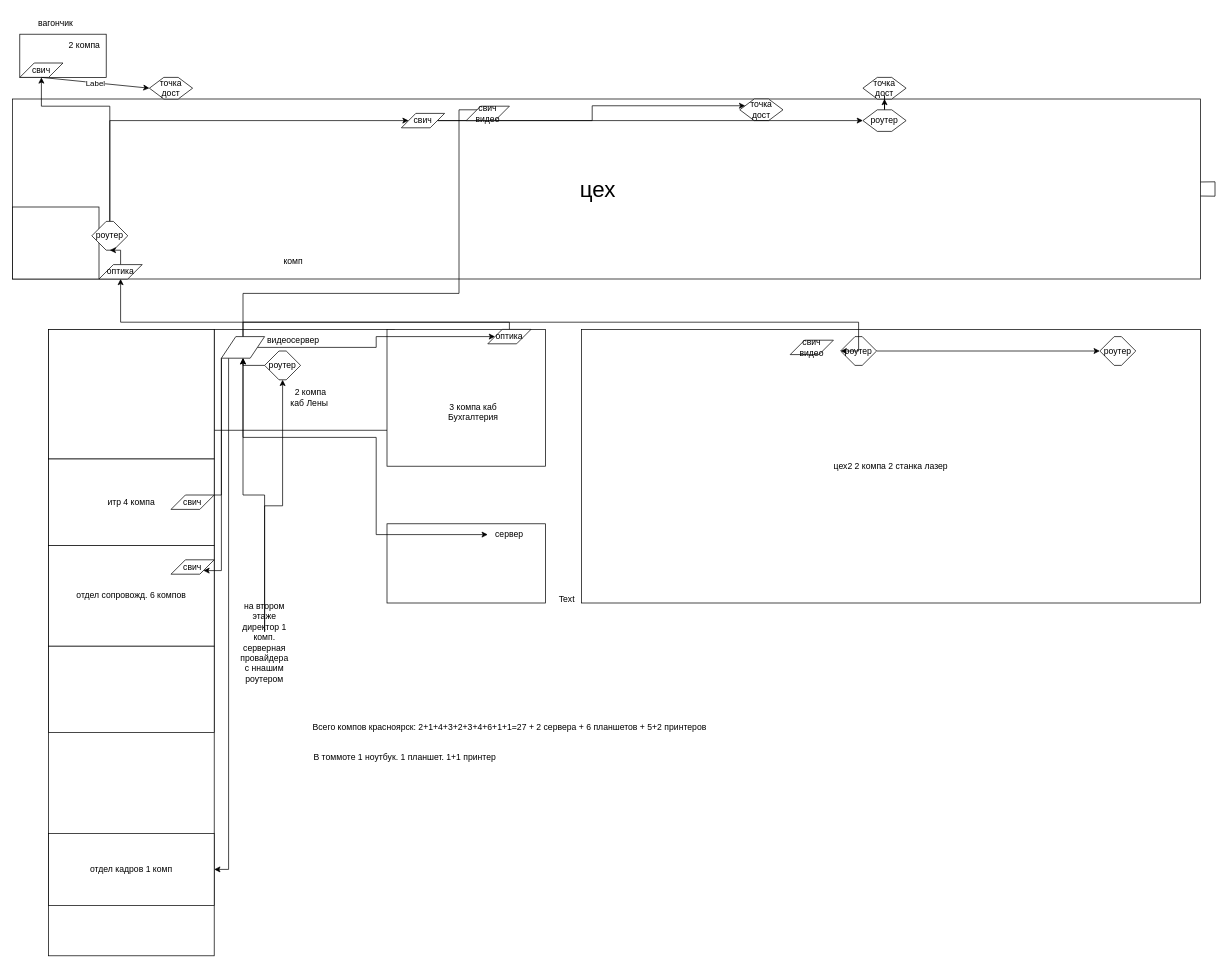
Image size: 1228x968. Some labels were removed from this diagram. The centre of each missing label's shape, as x and y in pixels:
3 компа каб нач произ-ва: the point at 131,394
вход: the point at 131,689
центр свич: the point at 243,347
